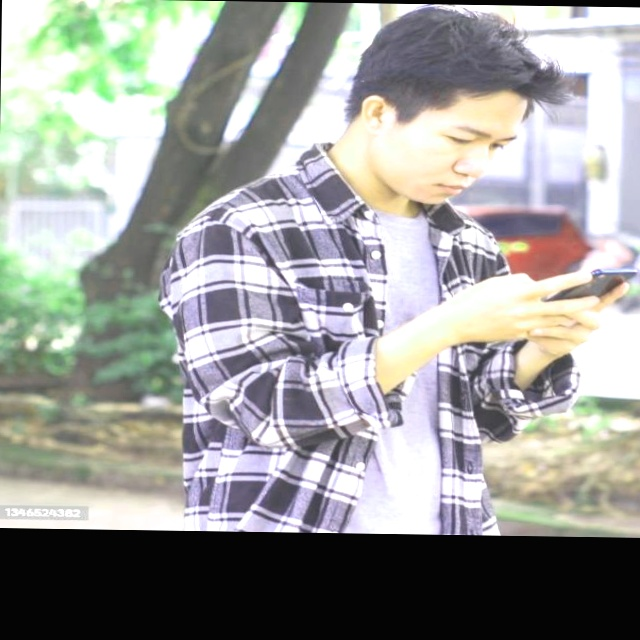Sin_Casco_Mascarrilla: (346, 4, 536, 207)
Sin_Chaleco: (180, 192, 502, 515)
